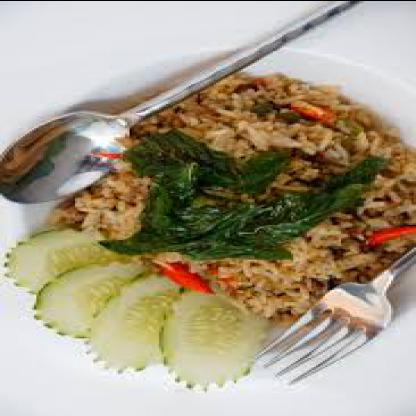Basil Rice: (5, 58, 414, 400)
